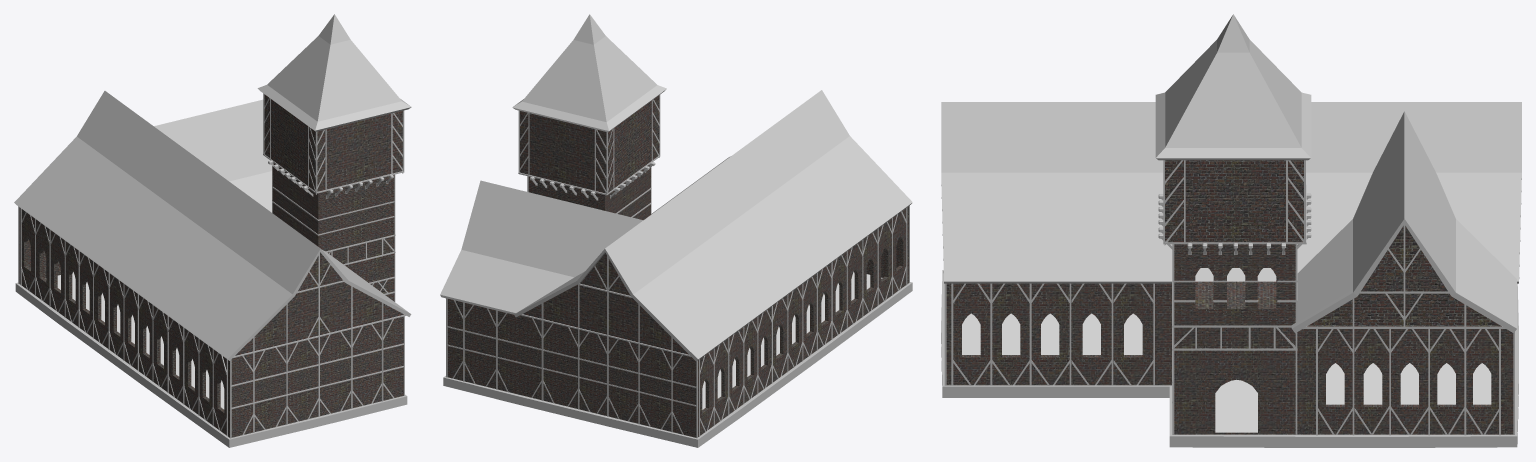
Rendered from Ratusha.fbx.
3 views of the same model, side by side, from view 1: azimuth 30°, elevation 25°; view 2: azimuth 150°, elevation 25°; view 3: azimuth 270°, elevation 25° (orthographic). The views are drawn at different scales.
Parts seen in each view (by area): view 1: Cube.848, Cube.829, Cube.830, Cube.832, Cube.1115, Cube.1131, Cube.881, Cube.1130, Cube.853; view 2: Cube.848, Cube.829, Cube.830, Cube.832, Cube.1115, Cube.1131, Cube.881, Cube.1130, Cube.853; view 3: Cube.848, Cube.829, Cube.830, Cube.832, Cube.1130, Cube.1131, Cube.1115, Cube.881, Cube.1049.
Part boxes in pixels (left/top/right/bottom): Cube.848: left=14, top=91, right=411, bottom=360; Cube.829: left=19, top=207, right=403, bottom=437; Cube.830: left=257, top=14, right=411, bottom=251; Cube.832: left=154, top=99, right=272, bottom=212; Cube.1115: left=18, top=206, right=404, bottom=438; Cube.1131: left=15, top=282, right=407, bottom=447; Cube.881: left=263, top=93, right=404, bottom=265; Cube.1130: left=45, top=272, right=224, bottom=409; Cube.853: left=233, top=253, right=406, bottom=357; Cube.848: left=514, top=90, right=912, bottom=361; Cube.829: left=447, top=206, right=908, bottom=437; Cube.830: left=512, top=14, right=666, bottom=220; Cube.832: left=440, top=180, right=642, bottom=314; Cube.1115: left=446, top=205, right=909, bottom=438; Cube.1131: left=443, top=282, right=912, bottom=447; Cube.881: left=518, top=95, right=660, bottom=217; Cube.1130: left=702, top=271, right=882, bottom=409; Cube.853: left=520, top=256, right=690, bottom=356; Cube.848: left=941, top=102, right=1521, bottom=283; Cube.829: left=946, top=283, right=1513, bottom=434; Cube.830: left=1155, top=14, right=1311, bottom=325; Cube.832: left=1291, top=111, right=1516, bottom=333; Cube.1130: left=962, top=313, right=1491, bottom=432; Cube.1131: left=941, top=270, right=1518, bottom=447; Cube.1115: left=944, top=283, right=1514, bottom=435; Cube.881: left=1158, top=160, right=1311, bottom=350; Cube.1049: left=1303, top=224, right=1505, bottom=328.
Bounding box in the file's own units: 1684 × 1975 × 2399.
